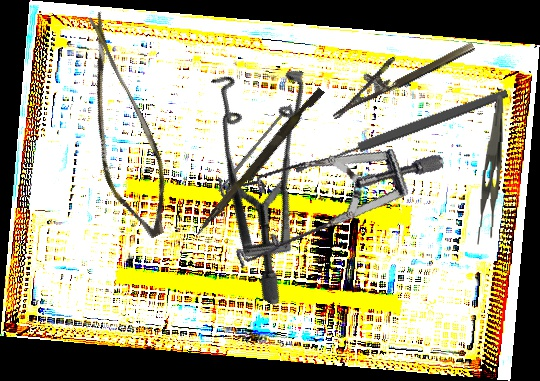Dressing Forceps: (474, 94, 505, 246)
Micro Scissor: (36, 10, 204, 246)
Needle Holder: (321, 23, 476, 120)
Pusher: (194, 84, 325, 241)
Scalpel Handle: (216, 102, 293, 193)
Speculum: (129, 34, 386, 308), (196, 98, 448, 315)
Surgical Spoon: (293, 86, 510, 177)
